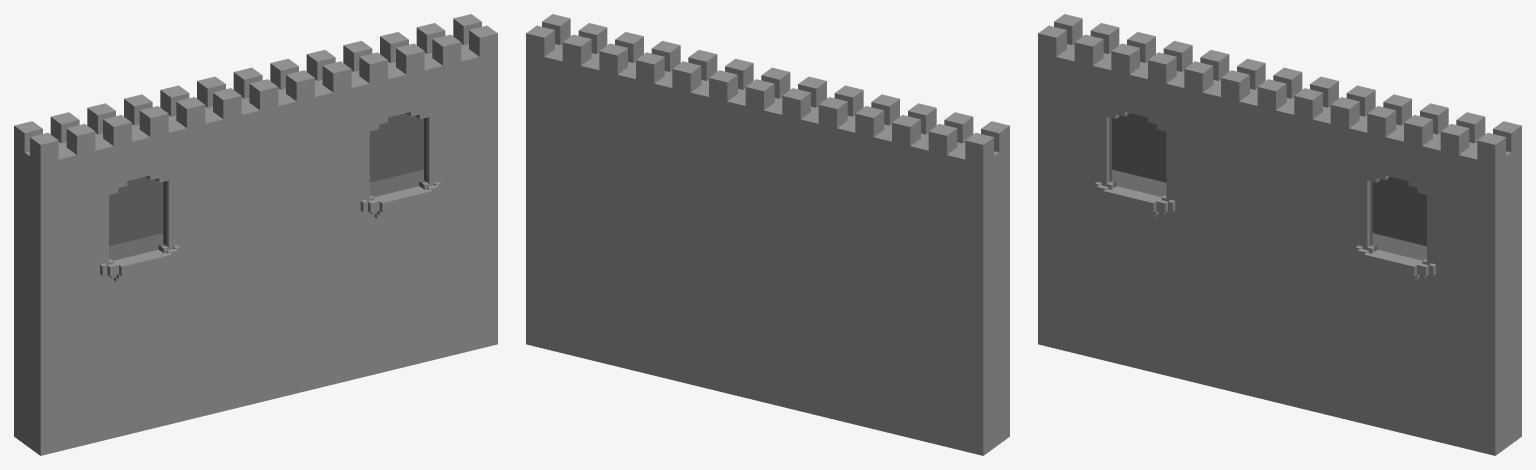
File: wall.obj
The picture shows the model from 3 angles, left to right: view 1: azimuth 30°, elevation 25°; view 2: azimuth 150°, elevation 25°; view 3: azimuth 330°, elevation 25°; orthographic projection.
Size of the model in its own units: 10 by 6.5 by 1.3.
1 material, 1 textured.
